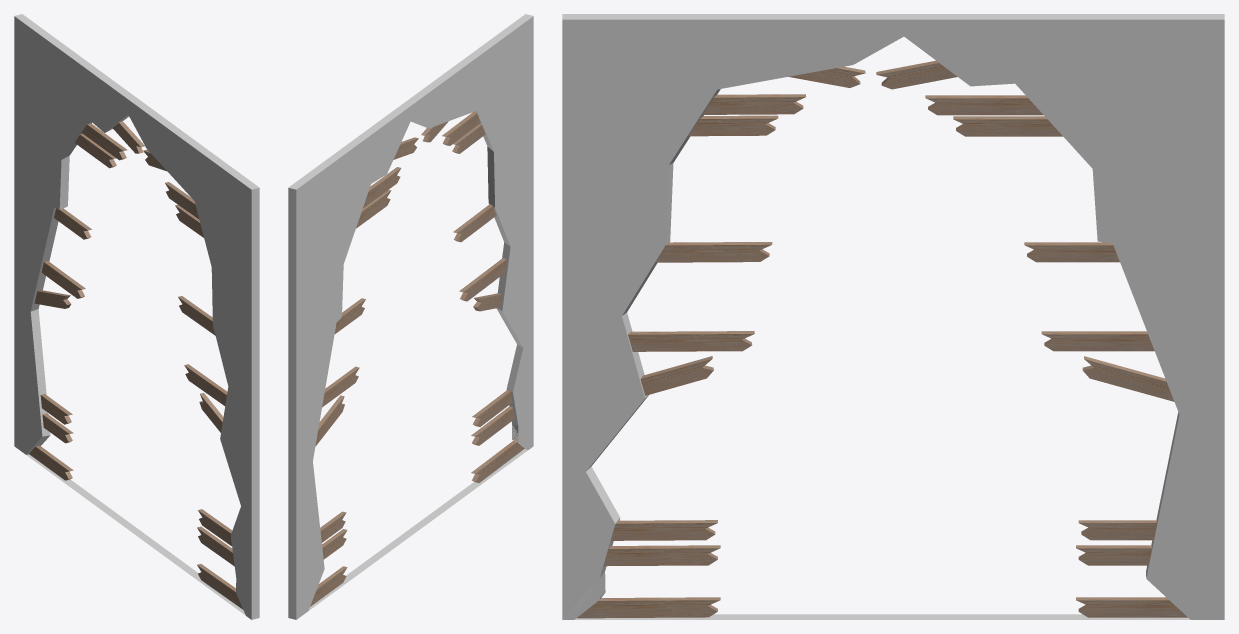
The model's file is BrokenWall.fbx.
3 views of the same model, side by side, from view 1: azimuth 30°, elevation 25°; view 2: azimuth 150°, elevation 25°; view 3: azimuth 270°, elevation 25° (orthographic). The views are drawn at different scales.
Parts seen in each view (by area): view 1: Broken wall, Broken planks; view 2: Broken wall, Broken planks; view 3: Broken wall, Broken planks.
Boxes of the visible parts, left/top/right/bottom form: Broken wall: left=14, top=14, right=259, bottom=619; Broken planks: left=29, top=121, right=242, bottom=609; Broken wall: left=288, top=14, right=533, bottom=619; Broken planks: left=310, top=111, right=524, bottom=606; Broken wall: left=562, top=14, right=1224, bottom=619; Broken planks: left=577, top=60, right=1187, bottom=618.
Bounding box in the file's own units: 10 × 500 × 500.
